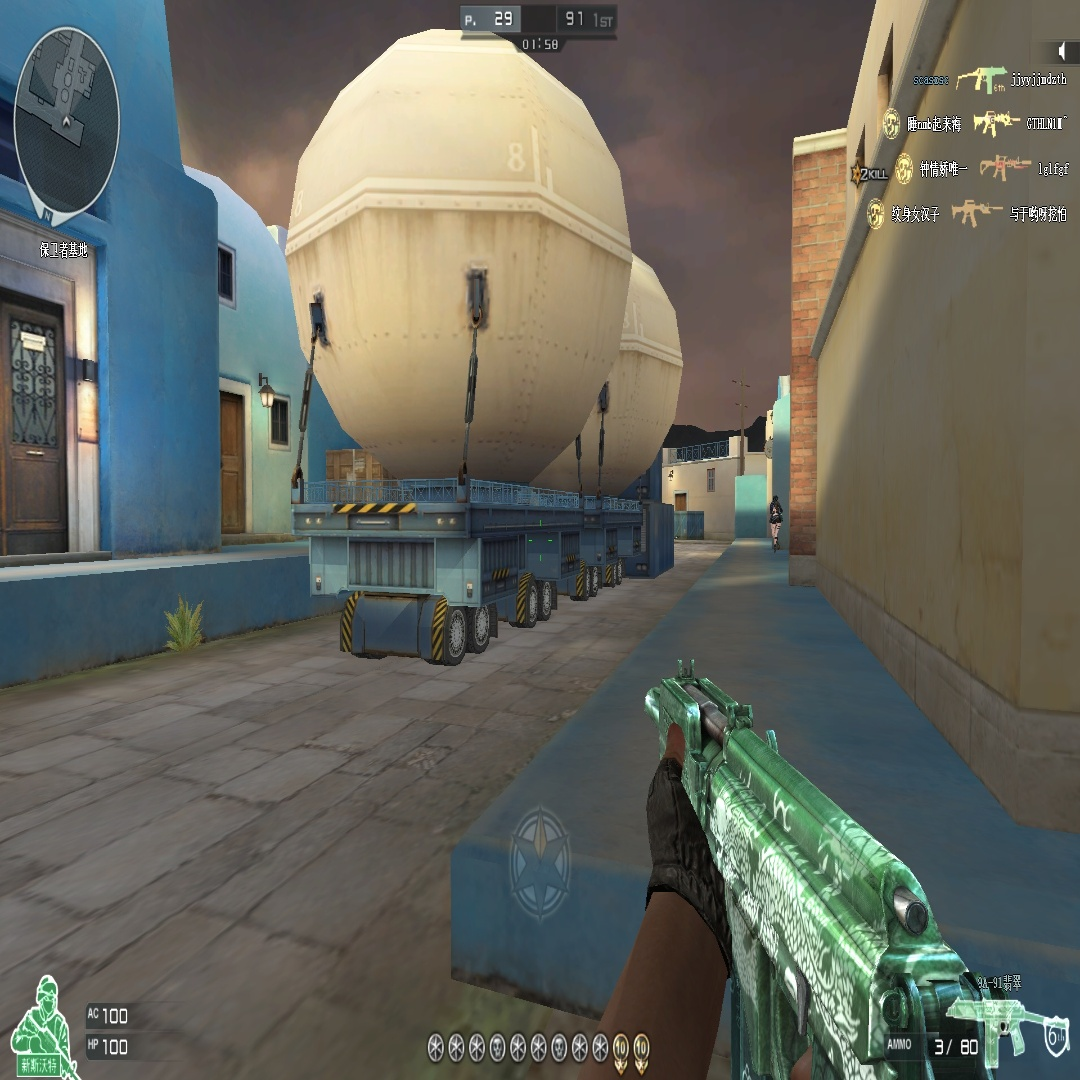head: (772, 494, 778, 503)
p: (768, 492, 783, 550)
